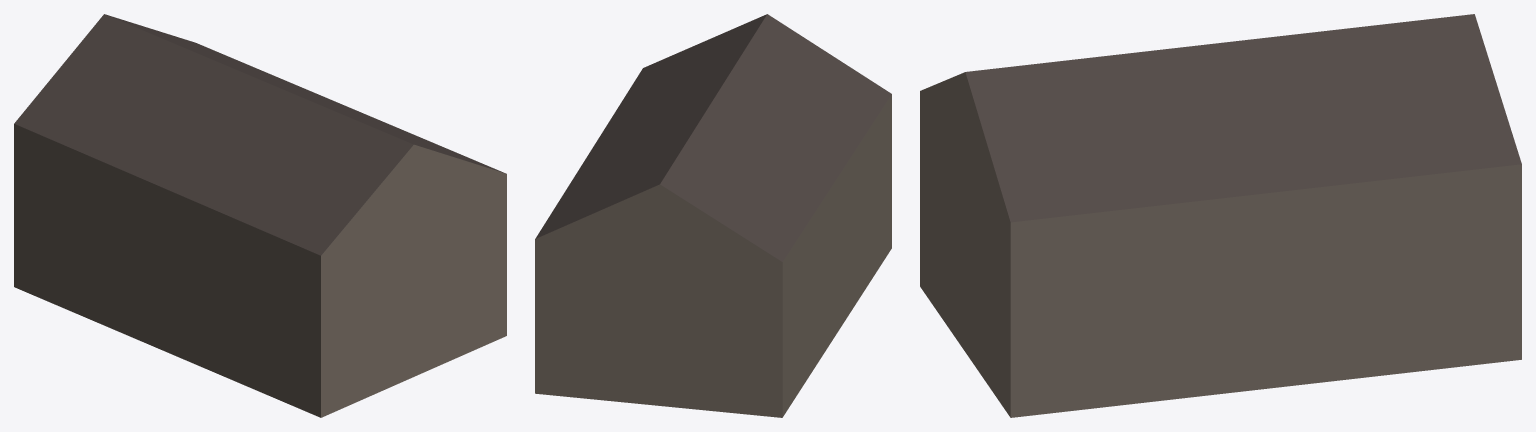
3 renders of one model, left to right at view 1: azimuth 30°, elevation 25°; view 2: azimuth 150°, elevation 25°; view 3: azimuth 270°, elevation 25°, orthographic. The views are drawn at different scales.
Parts seen in each view (by area): view 1: HP-w380339876; view 2: HP-w380339876; view 3: HP-w380339876.
Part boxes in pixels (x1,y1,x2,y2): HP-w380339876: [14, 14, 506, 417]; HP-w380339876: [535, 14, 891, 417]; HP-w380339876: [920, 14, 1521, 417].
Bounding box in the file's own units: 18.56 × 12.9 × 25.11.
